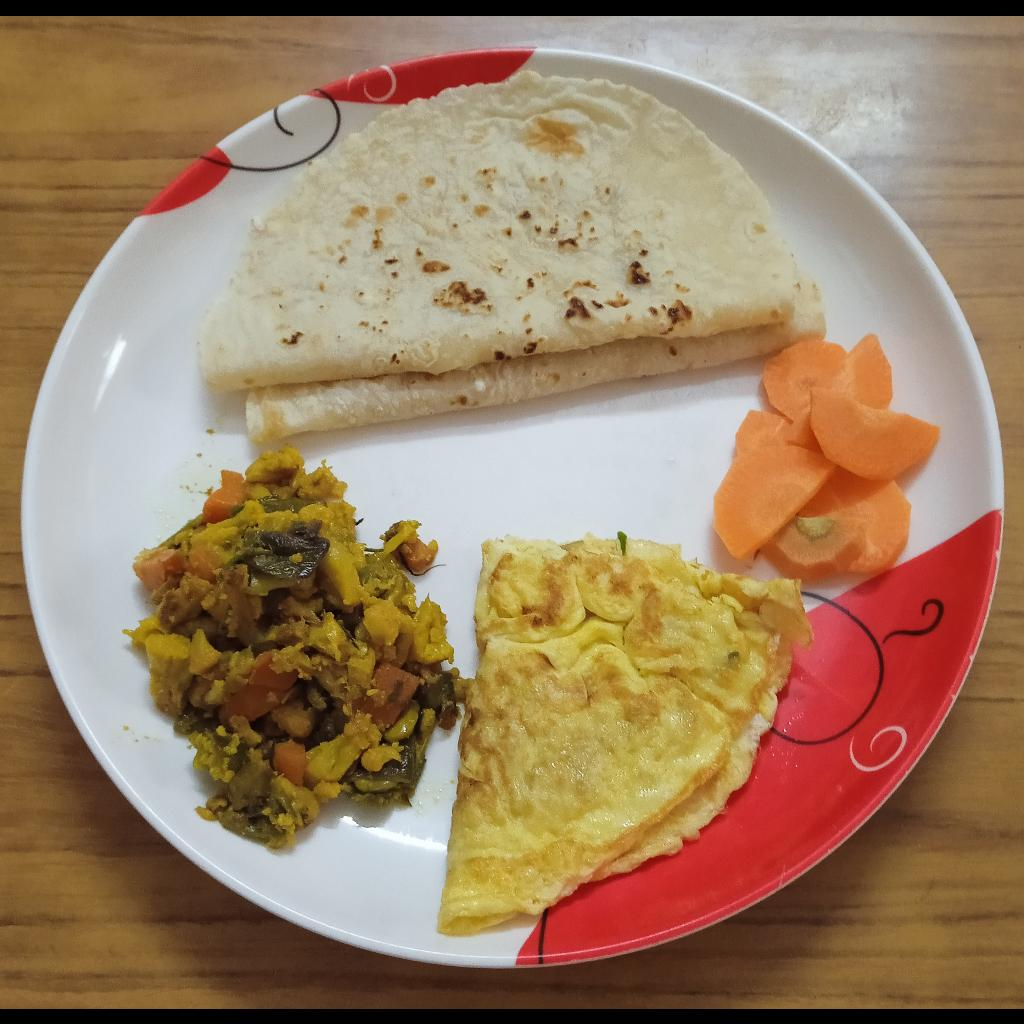carrot: (713, 330, 941, 580)
egg-poached: (442, 535, 813, 935)
ruti: (191, 73, 825, 444)
vegetable: (127, 440, 466, 853)
